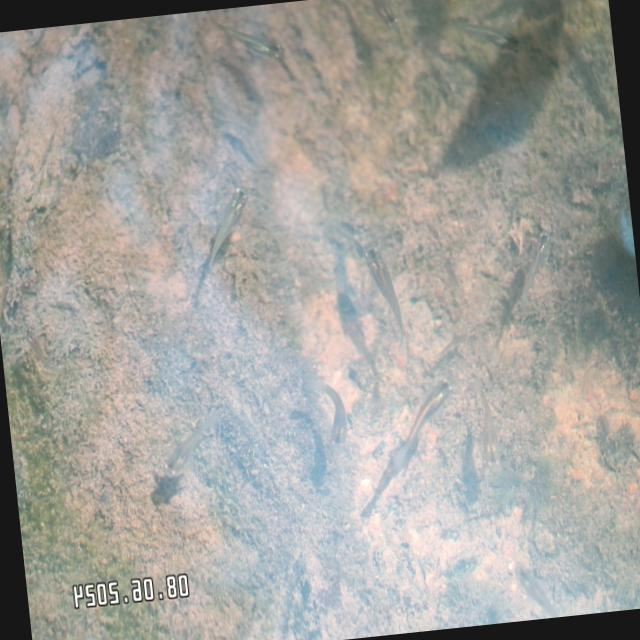Sivrisinek Baligi: (380, 376, 460, 471), (190, 182, 260, 284), (364, 241, 414, 364), (208, 4, 286, 72), (162, 400, 224, 480), (507, 232, 563, 312), (452, 8, 520, 62), (304, 376, 351, 448), (471, 373, 501, 475)
